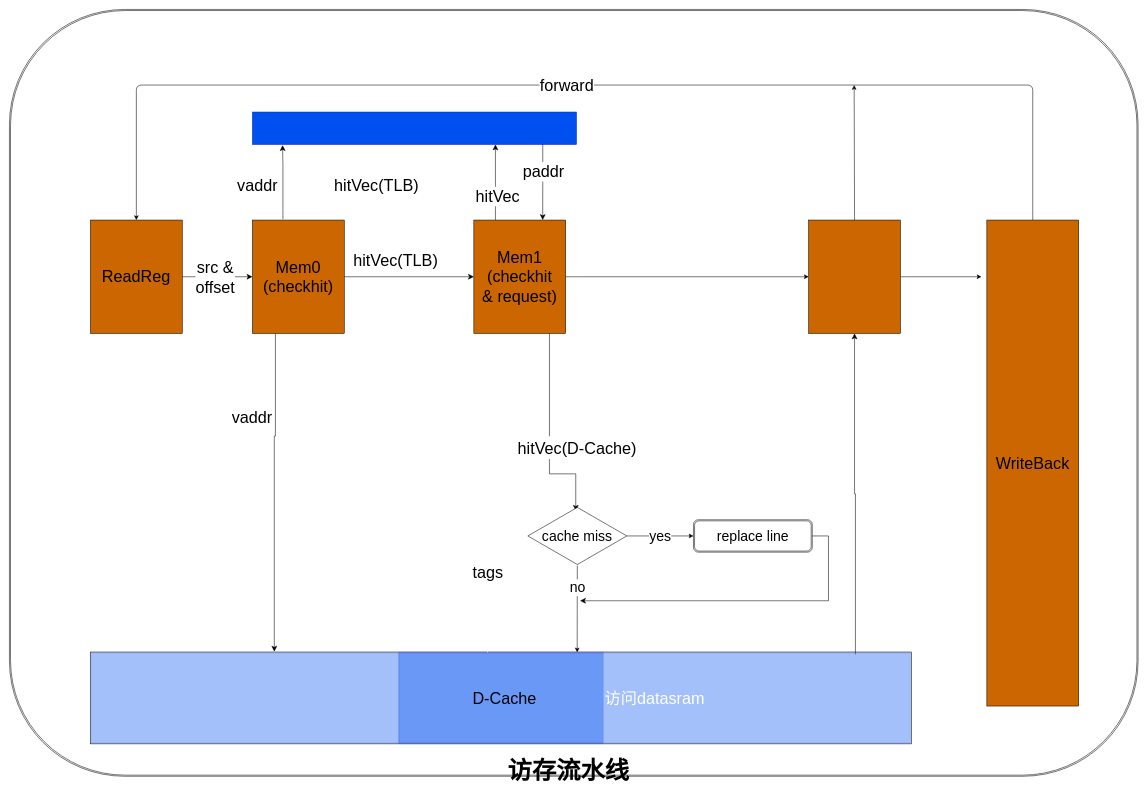
This 1148x795 diagram has some shape labels left out. Here are the shapes that lost their labels. From the top down, the centre of each, then its label:
At (414,128): "D-TLB".
At (854,276): "Mem2 (getdata)".
At (346,698): "访问tagsram".
